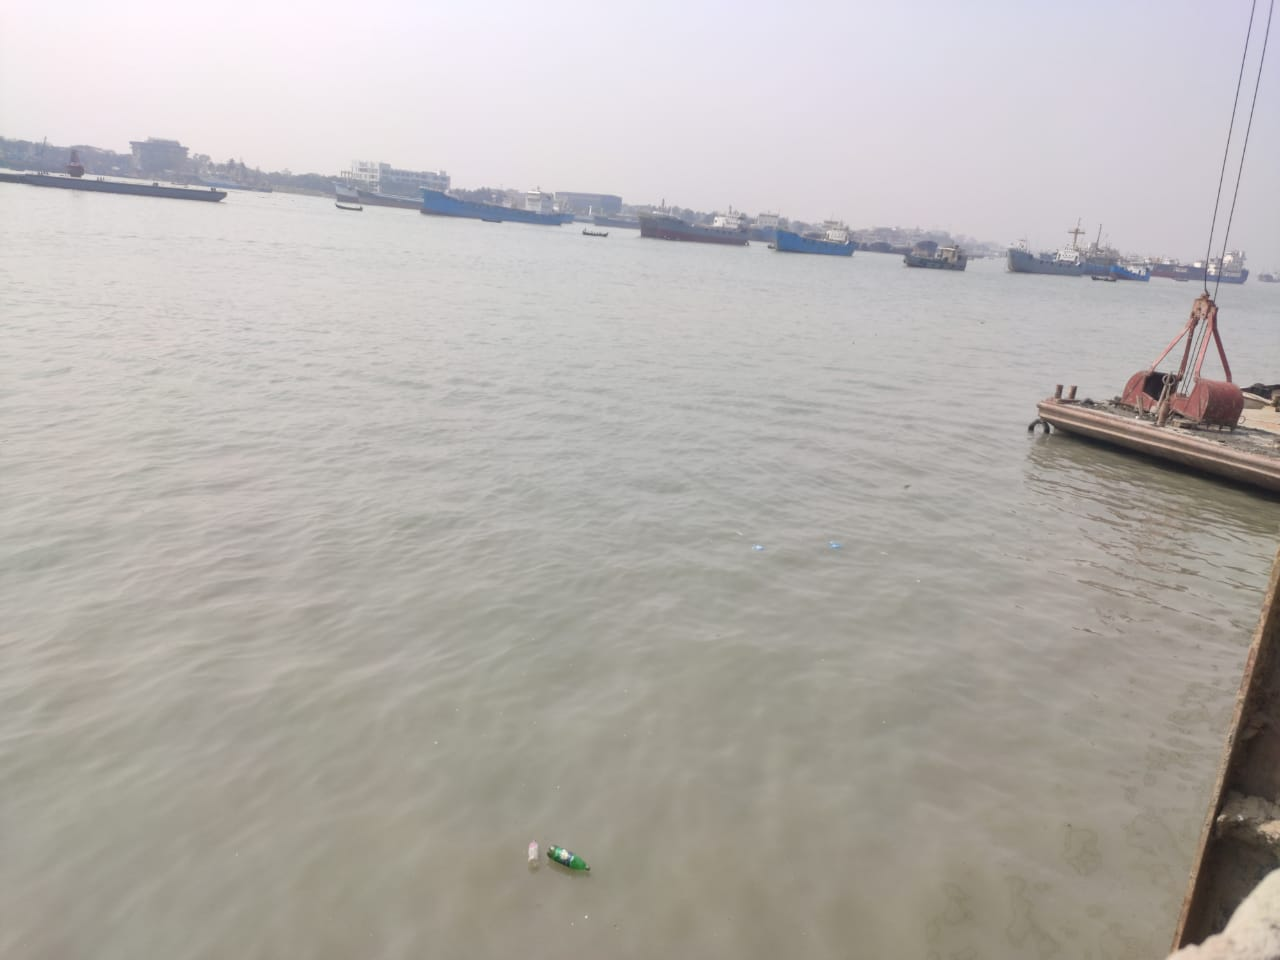Plastic Bottle: (547, 845, 588, 872), (527, 839, 541, 867)
